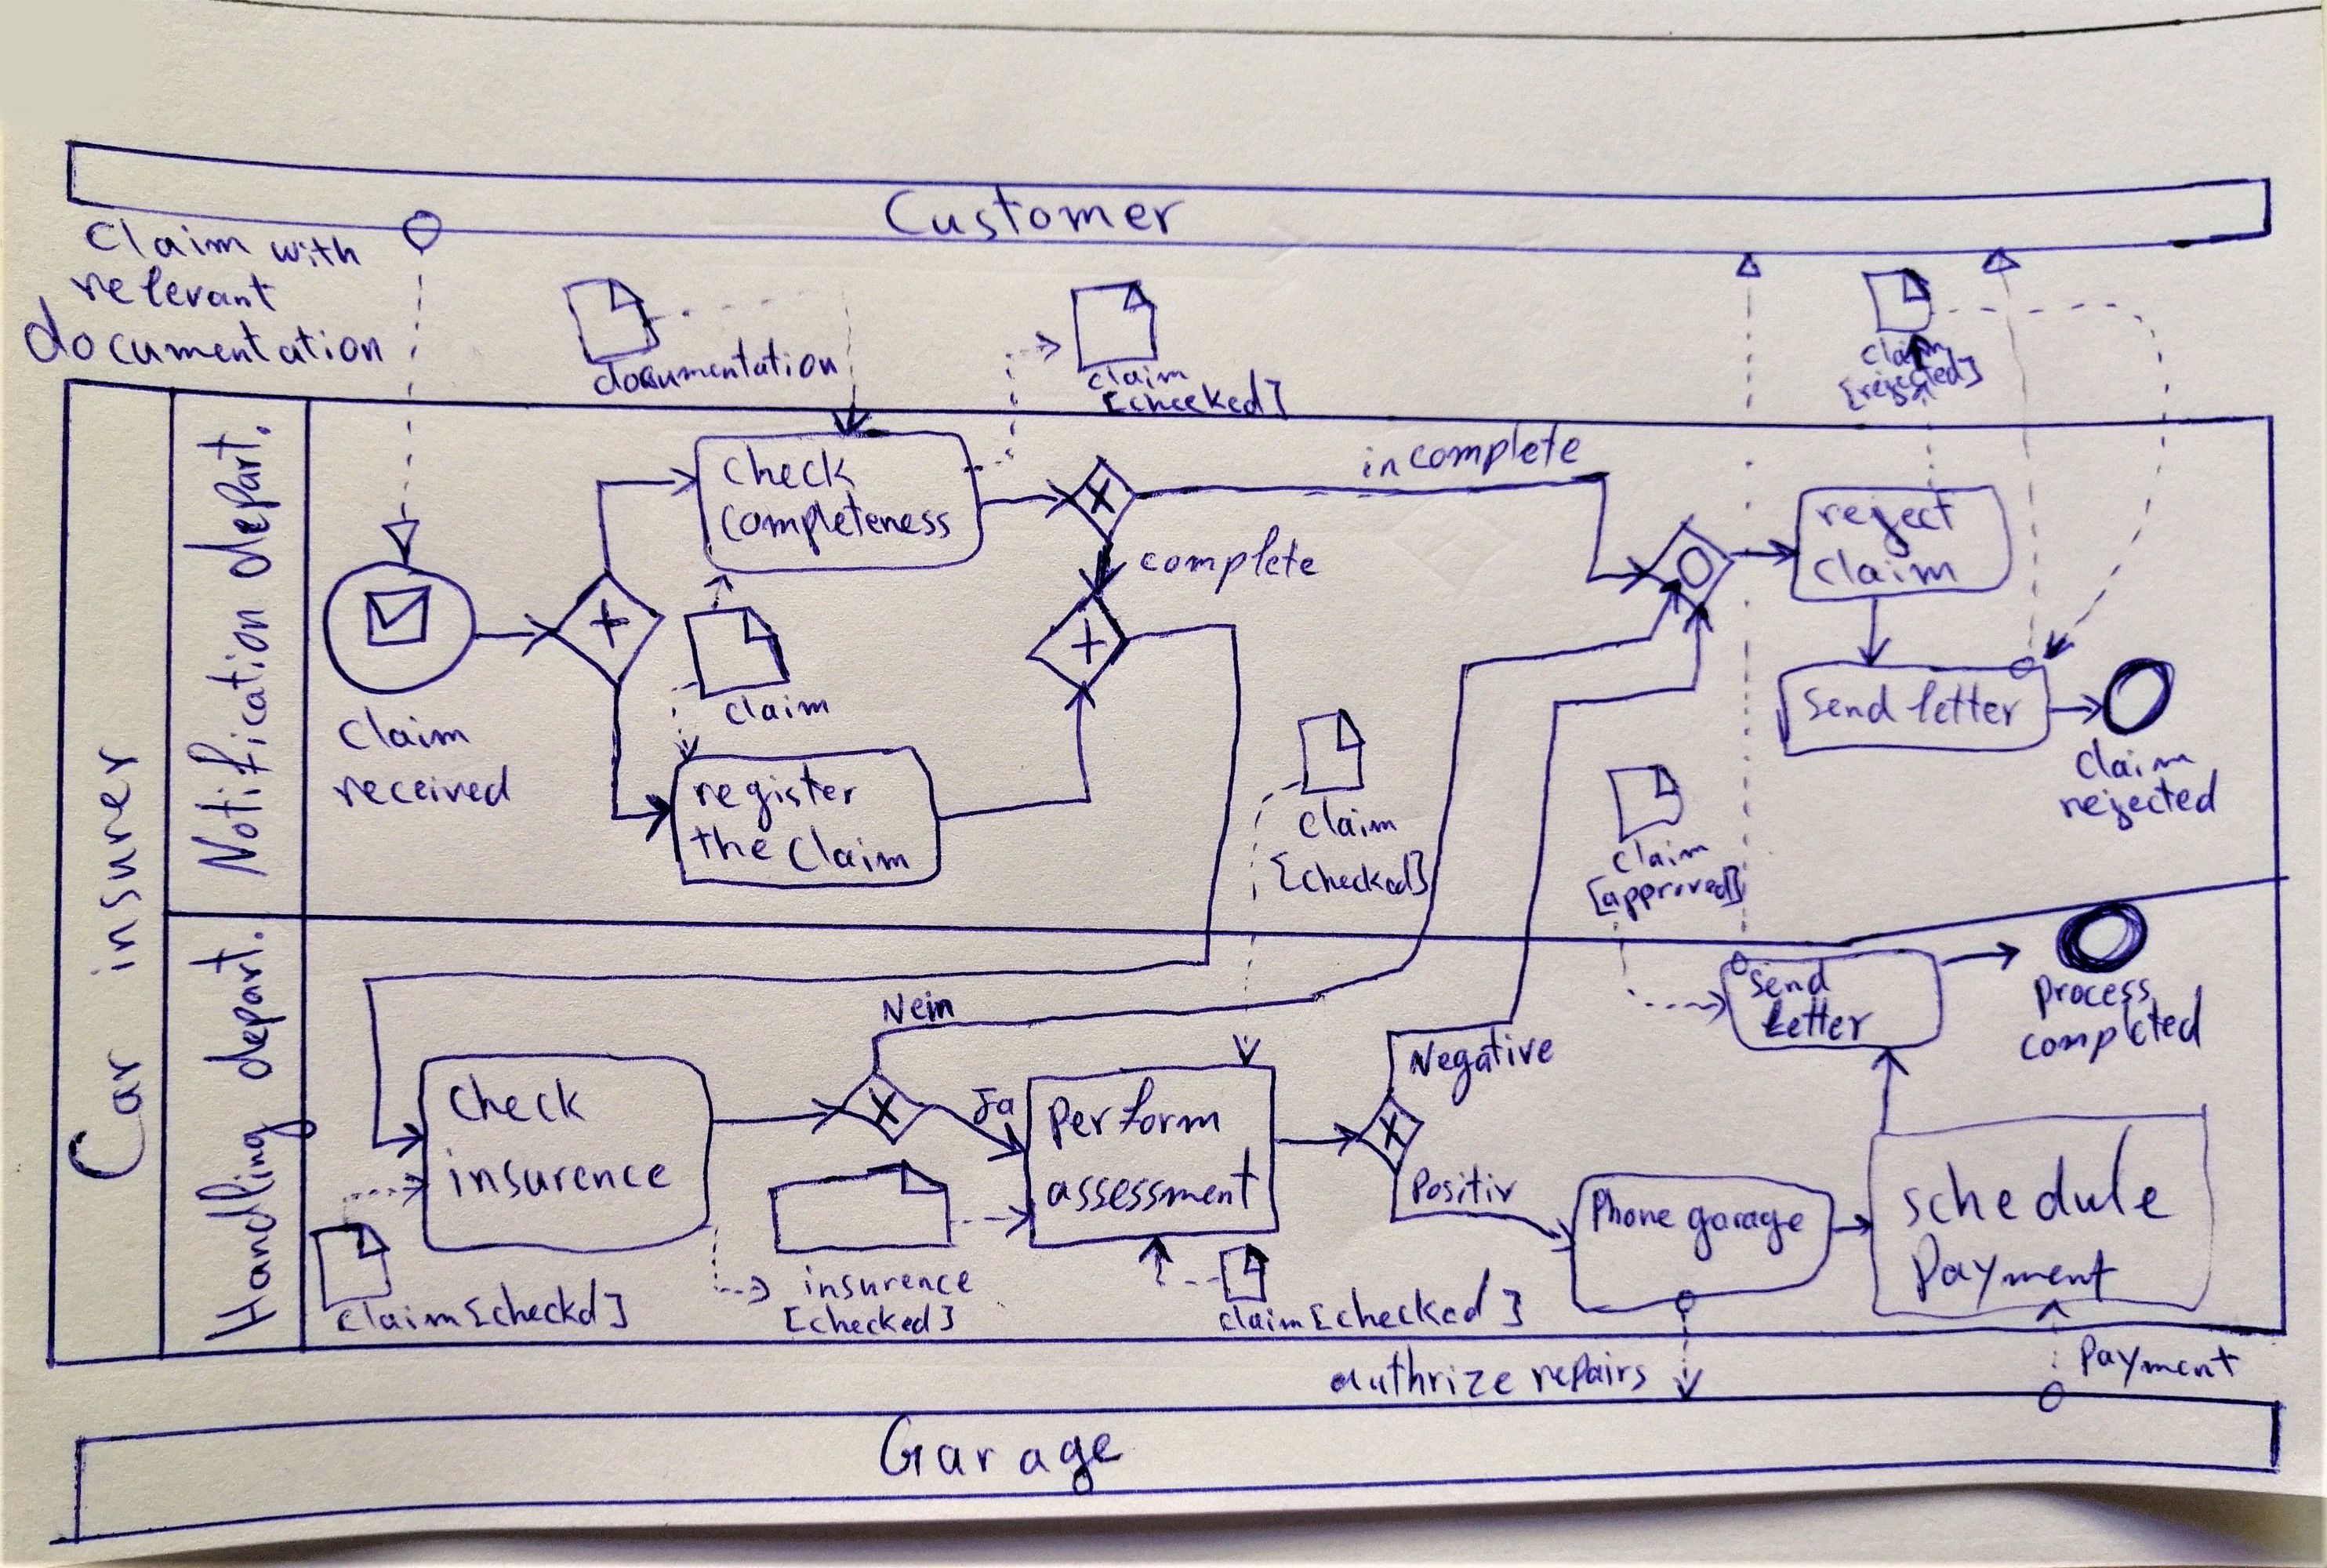Car: (61, 1039, 157, 1188)
Claim: (77, 210, 261, 268)
Customer: (877, 179, 1193, 247)
Garage: (875, 1409, 1129, 1505)
Handling: (189, 1110, 325, 1347)
Ja: (968, 1083, 1020, 1130)
Letter: (1757, 990, 1881, 1047)
Negative: (1403, 1020, 1559, 1113)
Nein: (877, 985, 961, 1031)
Notification: (178, 602, 278, 886)
Payment: (1904, 1225, 2124, 1318), (2073, 1326, 2247, 1395)
Perform: (1041, 1073, 1226, 1159)
Phone: (1585, 1181, 1680, 1239)
Positiv: (1408, 1157, 1522, 1209)
Process: (2028, 970, 2157, 1025)
Send: (1797, 675, 1904, 732)
[approved]: (1578, 859, 1750, 929)
[checkd]: (462, 1272, 632, 1333)
[checked]: (1305, 1262, 1529, 1335), (1095, 362, 1293, 425), (1263, 843, 1435, 901), (777, 1298, 959, 1339)
[rejected]: (1834, 350, 1989, 416)
assessment: (1039, 1143, 1268, 1218)
authrize: (1323, 1339, 1522, 1404)
check: (444, 1067, 591, 1129), (716, 438, 863, 495)
claim: (332, 698, 478, 758), (780, 817, 917, 877), (1806, 543, 1965, 593), (2066, 730, 2201, 788), (1293, 789, 1403, 843), (331, 1293, 465, 1337), (1604, 829, 1715, 878), (717, 690, 835, 733), (1083, 357, 1191, 397), (1855, 331, 1953, 373), (1212, 1298, 1309, 1337)
complete: (1134, 520, 1328, 600)
completed: (2014, 978, 2212, 1071)
completeness: (714, 483, 959, 563)
depart.: (175, 418, 290, 586), (182, 922, 294, 1088)
documentation: (16, 287, 392, 374), (586, 331, 845, 402)
garage: (1681, 1199, 1811, 1267)
incomplete: (1356, 415, 1587, 488)
insurence: (439, 1141, 679, 1204), (798, 1258, 980, 1304)
insurer: (79, 739, 150, 987)
letter: (1898, 674, 2030, 733)
received: (325, 756, 518, 814)
register: (686, 756, 863, 840)
reject: (1807, 483, 1963, 567)
rejected: (2054, 761, 2227, 837)
relevant: (63, 259, 285, 318)
repairs: (1524, 1346, 1652, 1398)
schedule: (1893, 1118, 2189, 1234)
send: (1744, 954, 1837, 1006)
the: (682, 817, 782, 870)
with: (264, 228, 367, 273)
